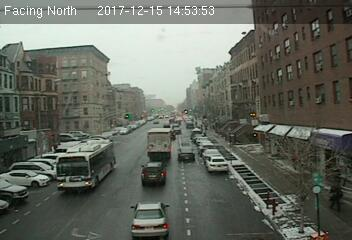bus: (54, 140, 117, 192)
car: (129, 201, 171, 236), (140, 162, 167, 184), (204, 156, 229, 174), (177, 146, 196, 161)
truck: (147, 127, 172, 159)
